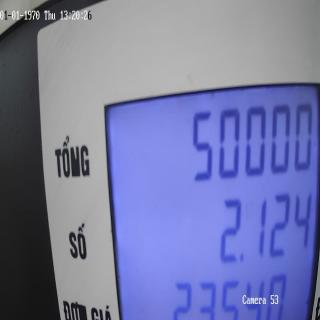screen: (99, 78, 317, 320)
